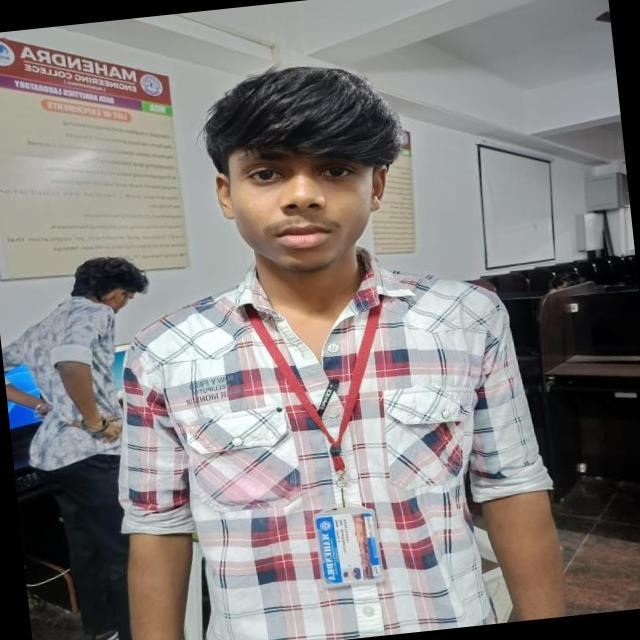id_card: (253, 270, 415, 592)
